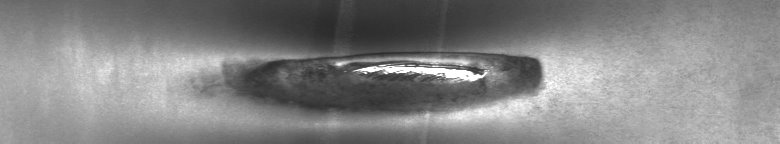ke: (223, 48, 549, 127)
